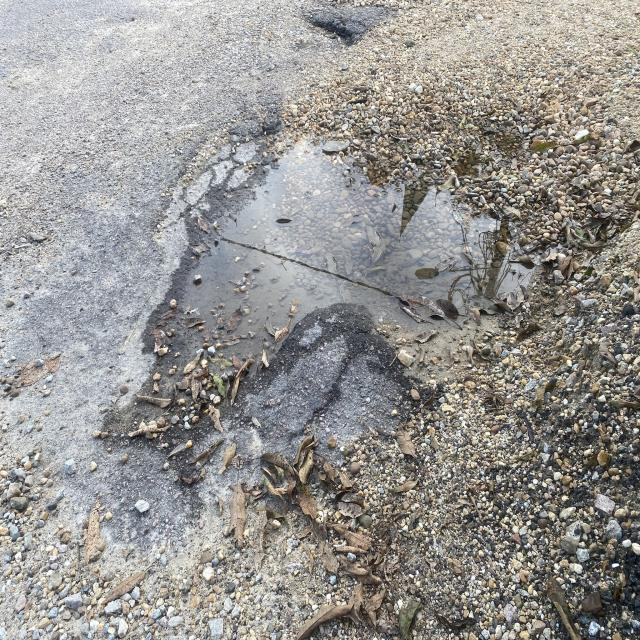Pothole: (119, 59, 404, 413)
